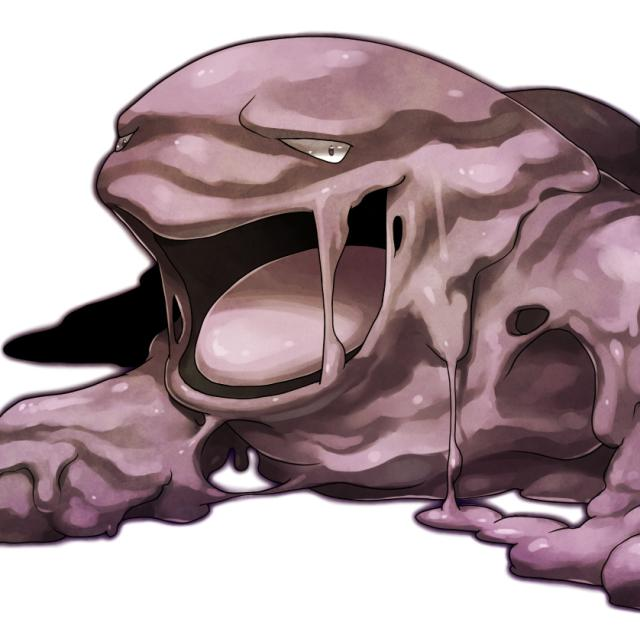Muk: (97, 36, 604, 494)
